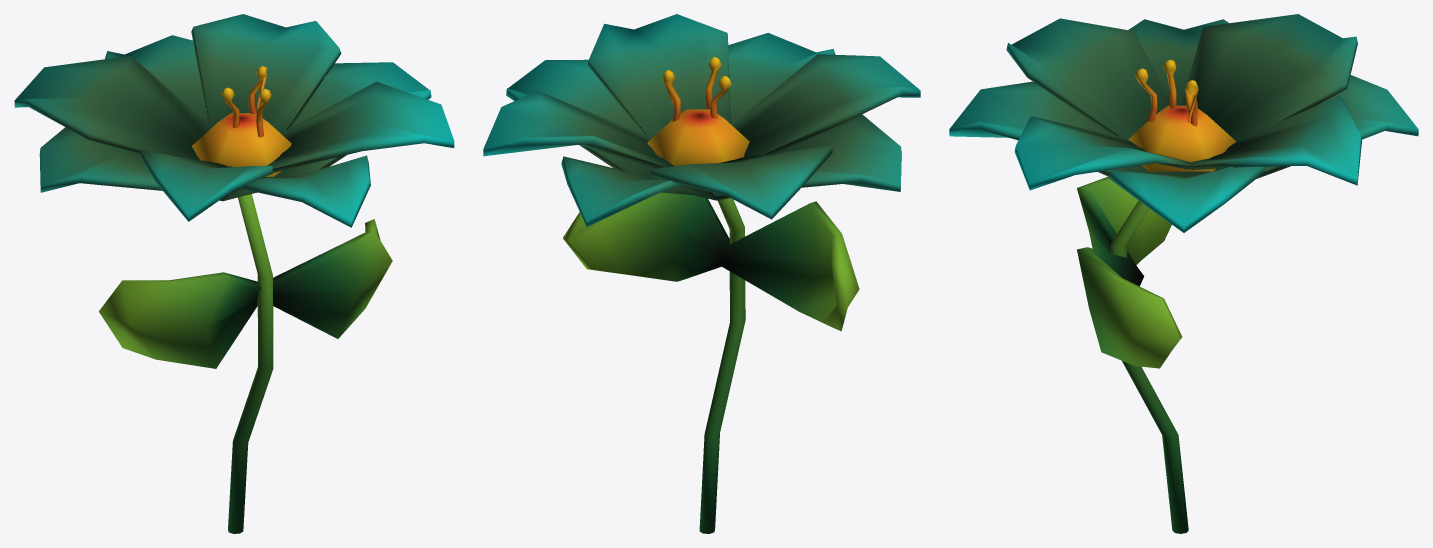
Rendered from Flower_12.fbx.
The picture shows the model from 3 angles, left to right: view 1: azimuth 30°, elevation 25°; view 2: azimuth 150°, elevation 25°; view 3: azimuth 270°, elevation 25°; orthographic projection. The views are drawn at different scales.
Parts seen in each view (by area): view 1: Flower_12; view 2: Flower_12; view 3: Flower_12.
Part boxes in pixels (bbox=[...]): Flower_12: bbox=[14, 14, 454, 533]; Flower_12: bbox=[483, 14, 920, 533]; Flower_12: bbox=[949, 14, 1418, 533].
Bounding box in the file's own units: 0.3895 × 0.4321 × 0.3932.
